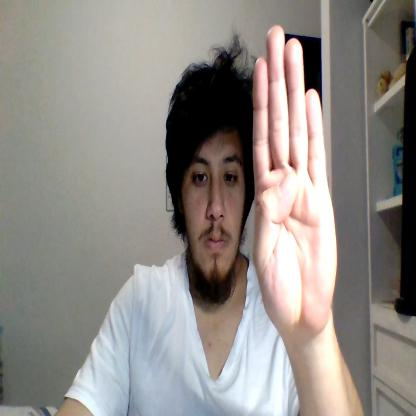B: (253, 25, 337, 333)
